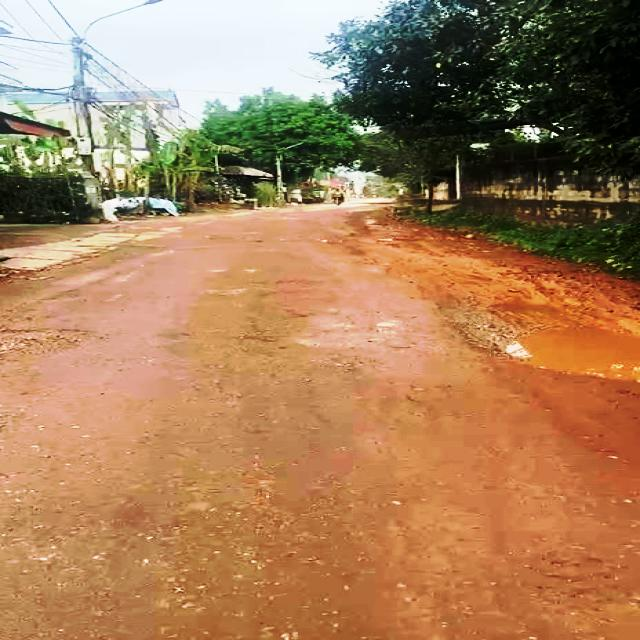pothole: (471, 319, 640, 379), (0, 323, 120, 360)
